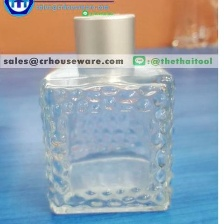bottle: (29, 7, 179, 219)
